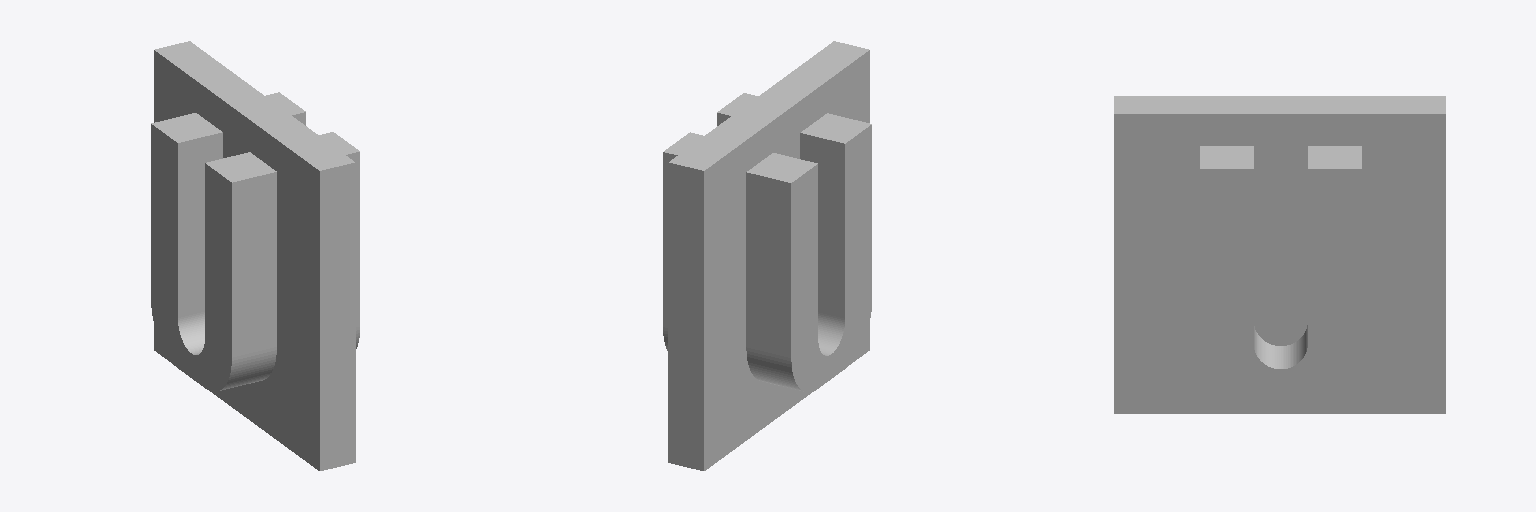
The model's file is letter_U.obj.
3 views of the same model, side by side, from view 1: azimuth 30°, elevation 25°; view 2: azimuth 150°, elevation 25°; view 3: azimuth 270°, elevation 25° (orthographic).
Visible parts, largest first — view 1: window, Text; view 2: window, Text; view 3: window, Text.
Part boxes in pixels (x1,y1,x2,y2): window: (154,41,355,470); Text: (151,92,359,391); window: (668,41,869,470); Text: (663,93,871,392); window: (1114,96,1445,413); Text: (1200,146,1361,393).
Bounding box in the file's own units: 0.894 × 2 × 2.